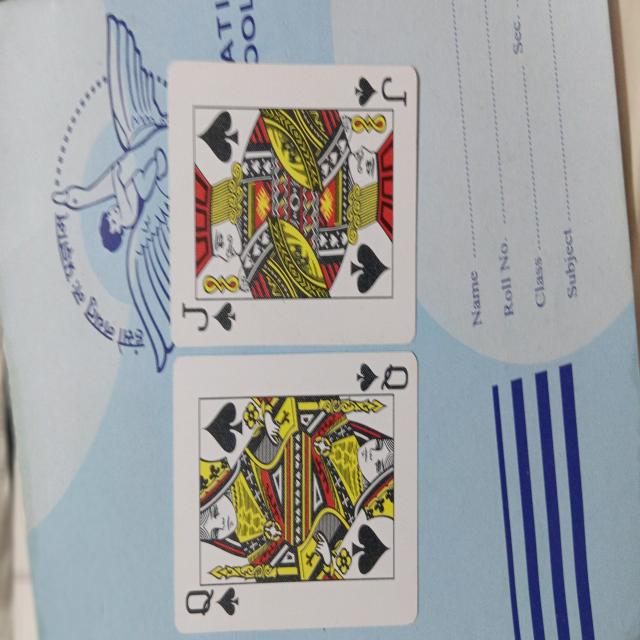JS: (171, 60, 421, 349)
QS: (170, 355, 421, 631)
